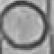no answer: (0, 0, 49, 50)
